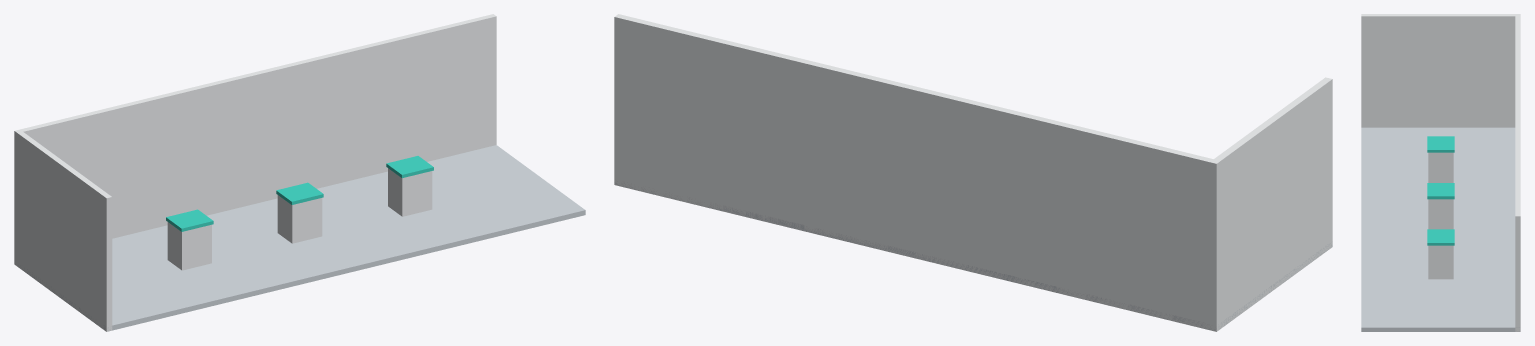
The picture shows the model from 3 angles, left to right: view 1: azimuth 30°, elevation 25°; view 2: azimuth 150°, elevation 25°; view 3: azimuth 270°, elevation 25°; orthographic projection. The views are drawn at different scales.
Parts seen in each view (by area): view 1: Exhibition Booth Concept; view 2: Exhibition Booth Concept; view 3: Exhibition Booth Concept.
Part boxes in pixels (bbox=[...]): Exhibition Booth Concept: bbox=[14, 14, 585, 331]; Exhibition Booth Concept: bbox=[614, 14, 1332, 331]; Exhibition Booth Concept: bbox=[1361, 14, 1520, 331].
Bounding box in the file's own units: 12 × 3.2 × 4.
